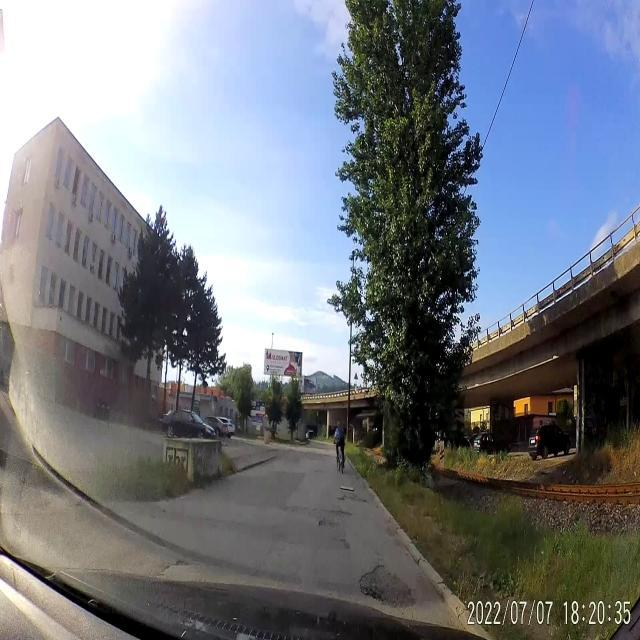Pothole: (358, 553, 414, 613), (317, 507, 352, 531), (338, 491, 367, 503), (173, 553, 190, 571)
